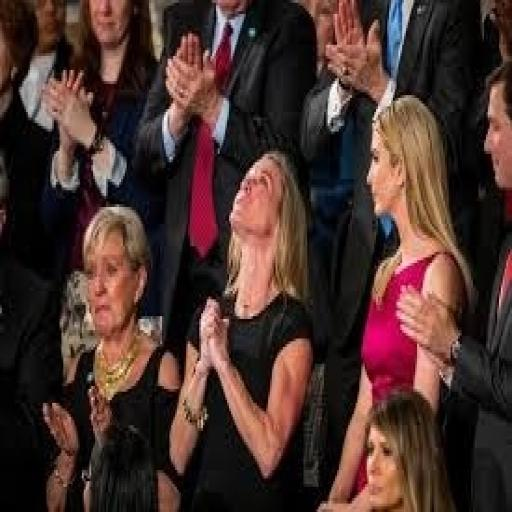clapping: (55, 100, 383, 512), (9, 177, 191, 512)
